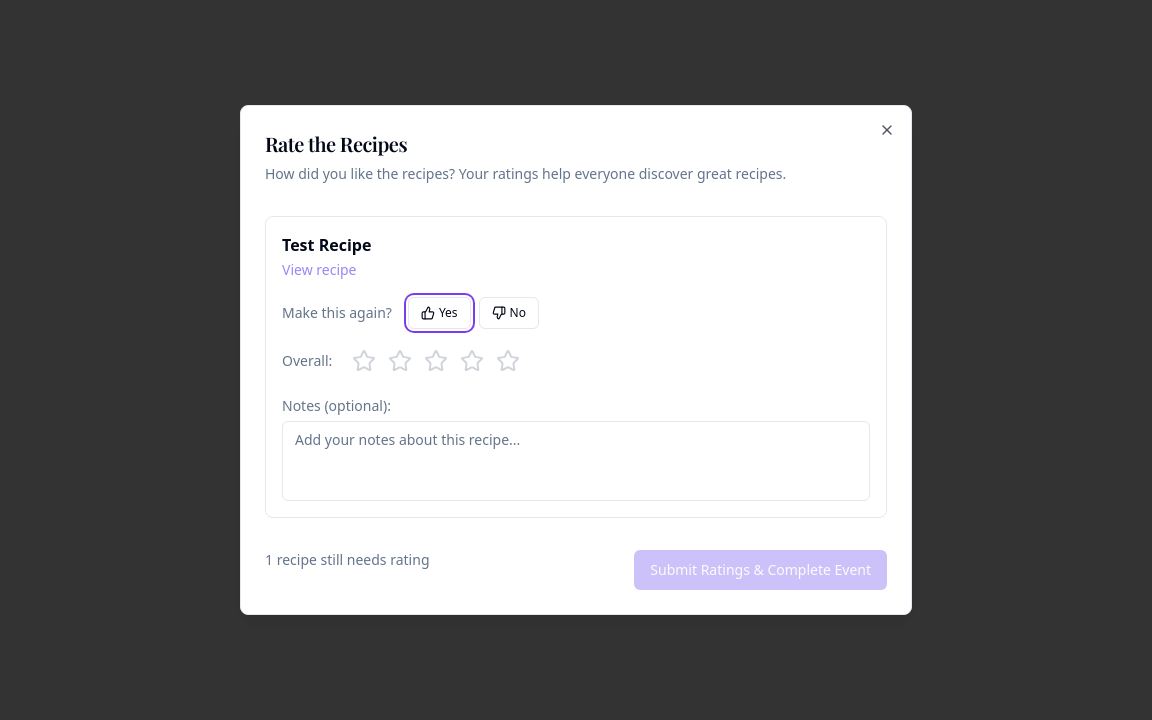
Test case: EventRatingDialog - Star Ratings › shows rating number when a star is selected
Click the button named "Rate 4 out of 5 stars". click: (472, 361)
box: [456,345,488,377]
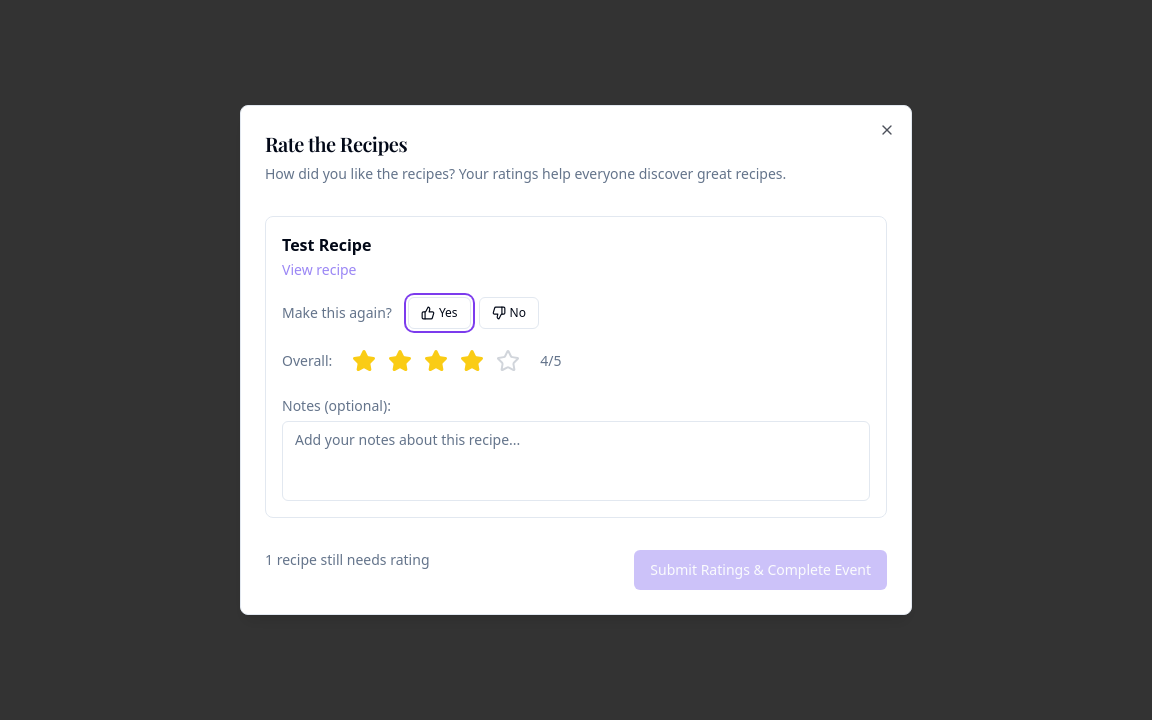
Result: the text "4/5" is shown at [540,351,562,371]
